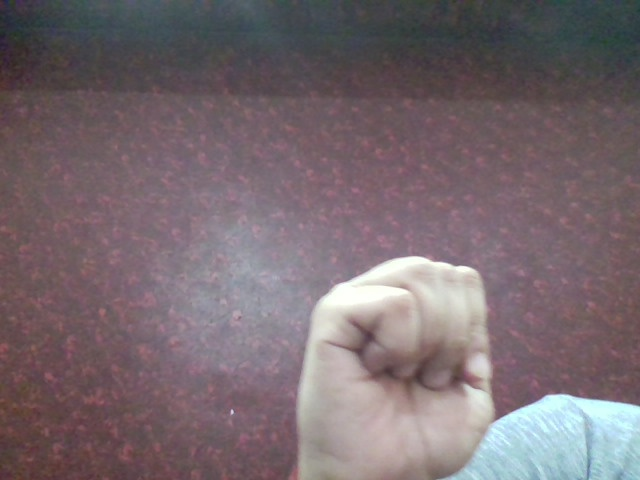m: (284, 252, 500, 476)
